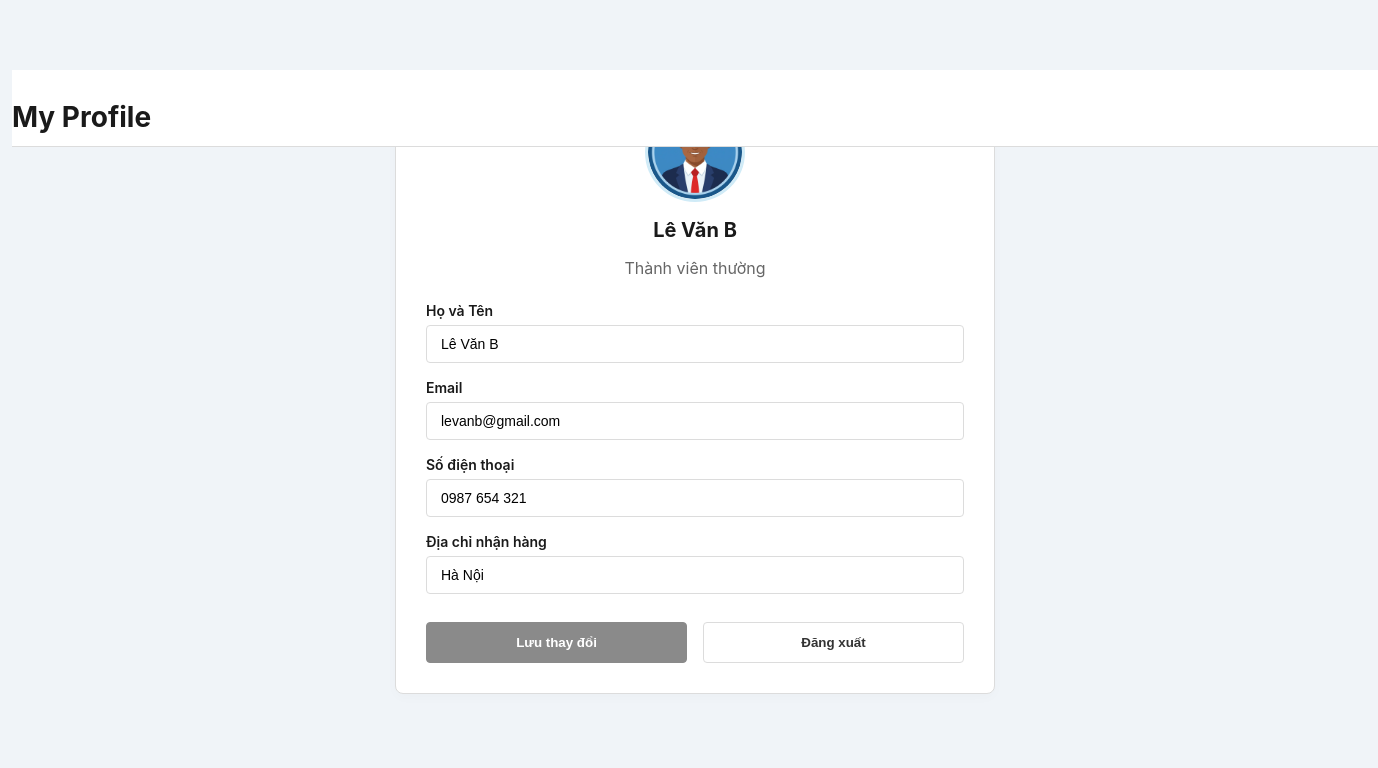
Test: Profile Component › formats +84 phone numbers correctly
Replace the text in the field labelled "Số điện thoại" with "+84912345678" at {"x": 695, "y": 498}, box [426,479,964,517]
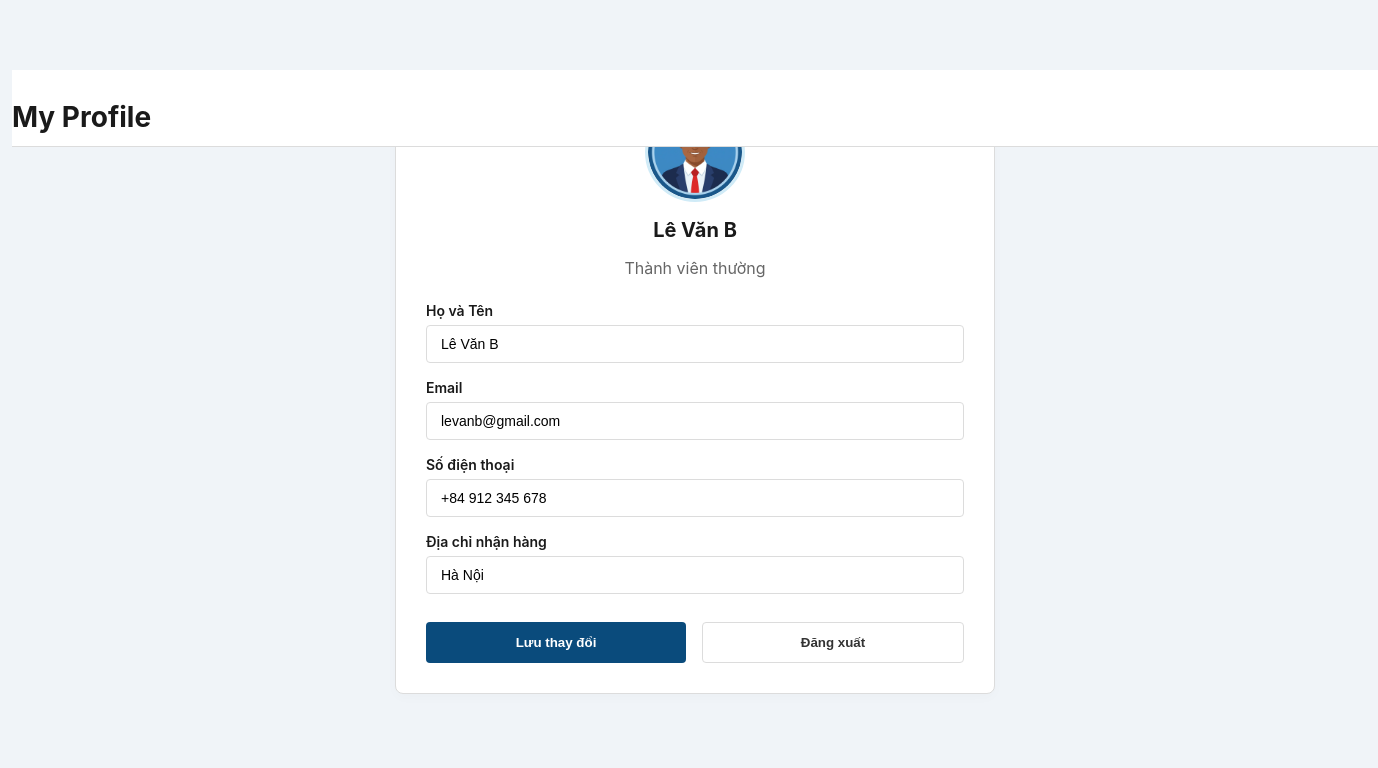
Now the field labelled "Số điện thoại" holds "+84 912 345 678", box [426,479,964,517]
